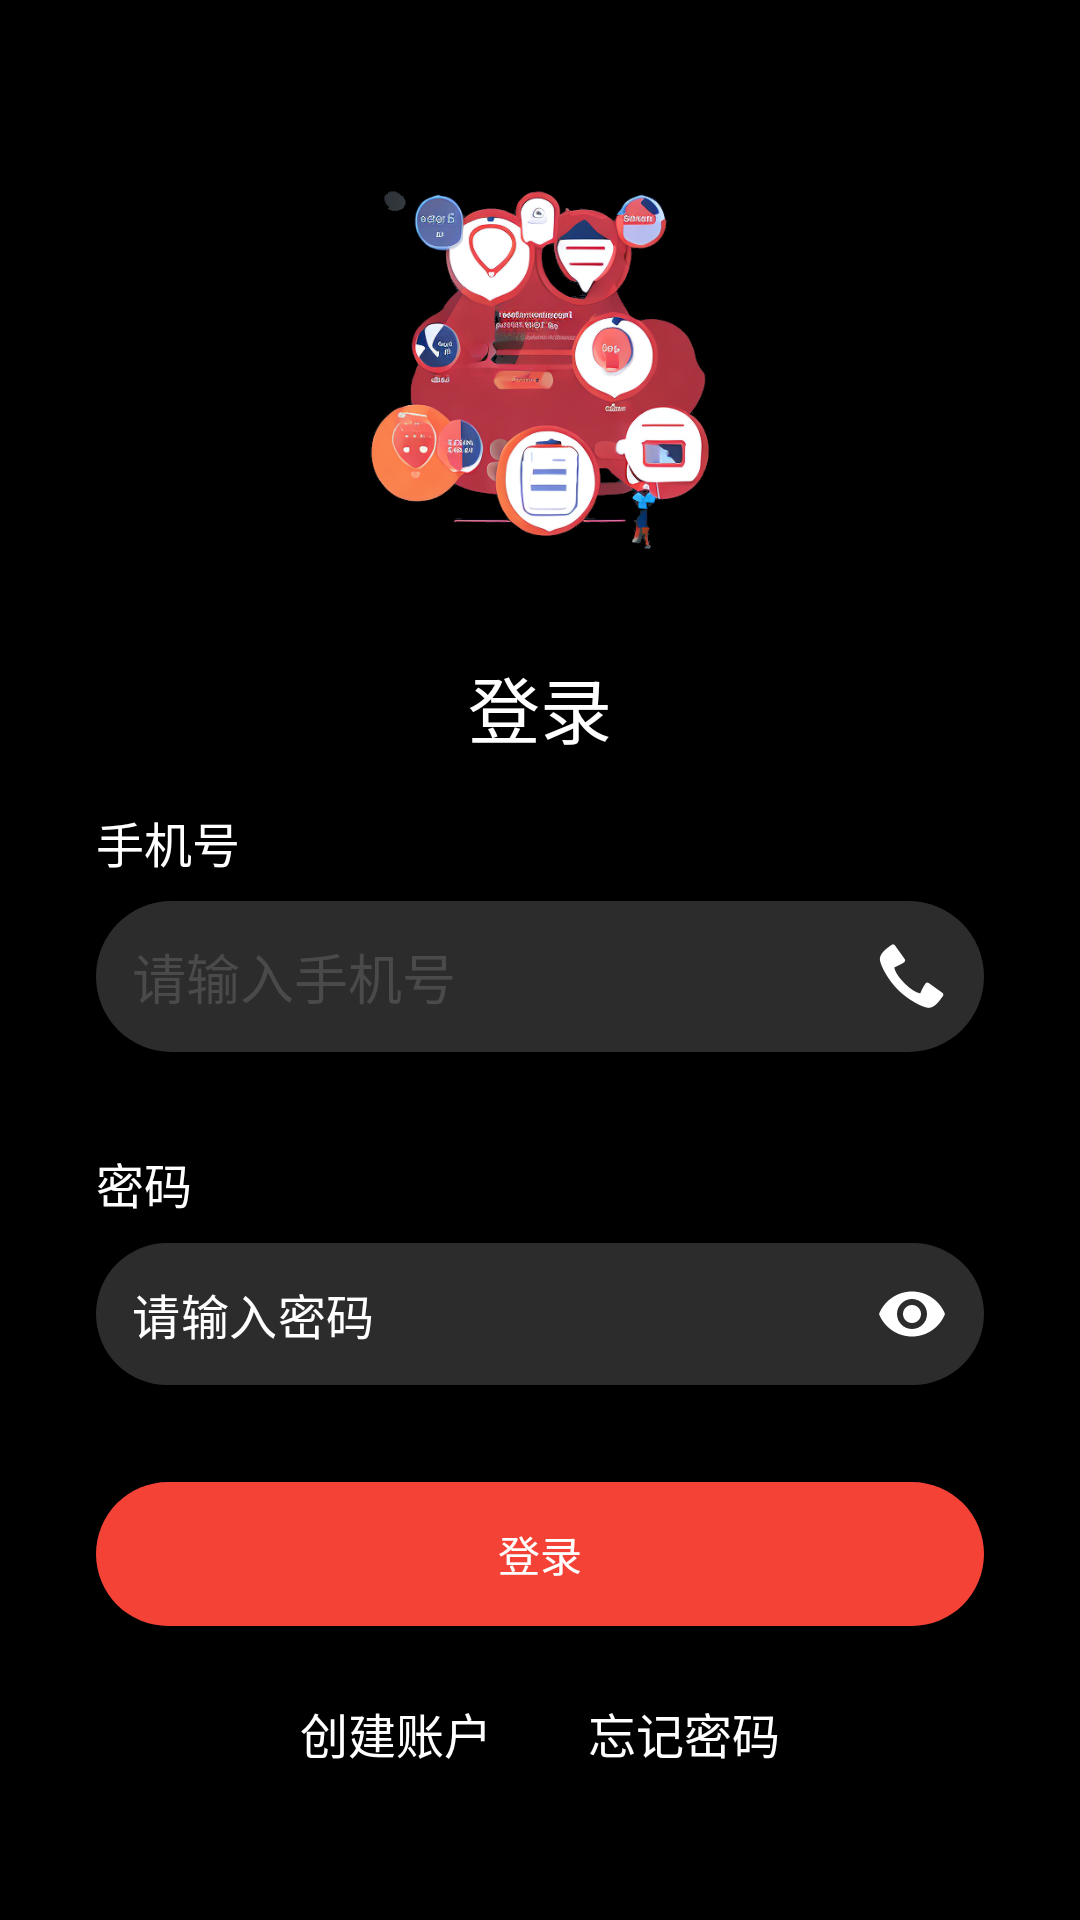

Named icons in this screenshot (1080*1920) and their bounding boxes, {"x1": x1, "y1": y1, "x2": x2, "y2": y2}:
角色图像: {"x1": 370, "y1": 191, "x2": 709, "y2": 549}
